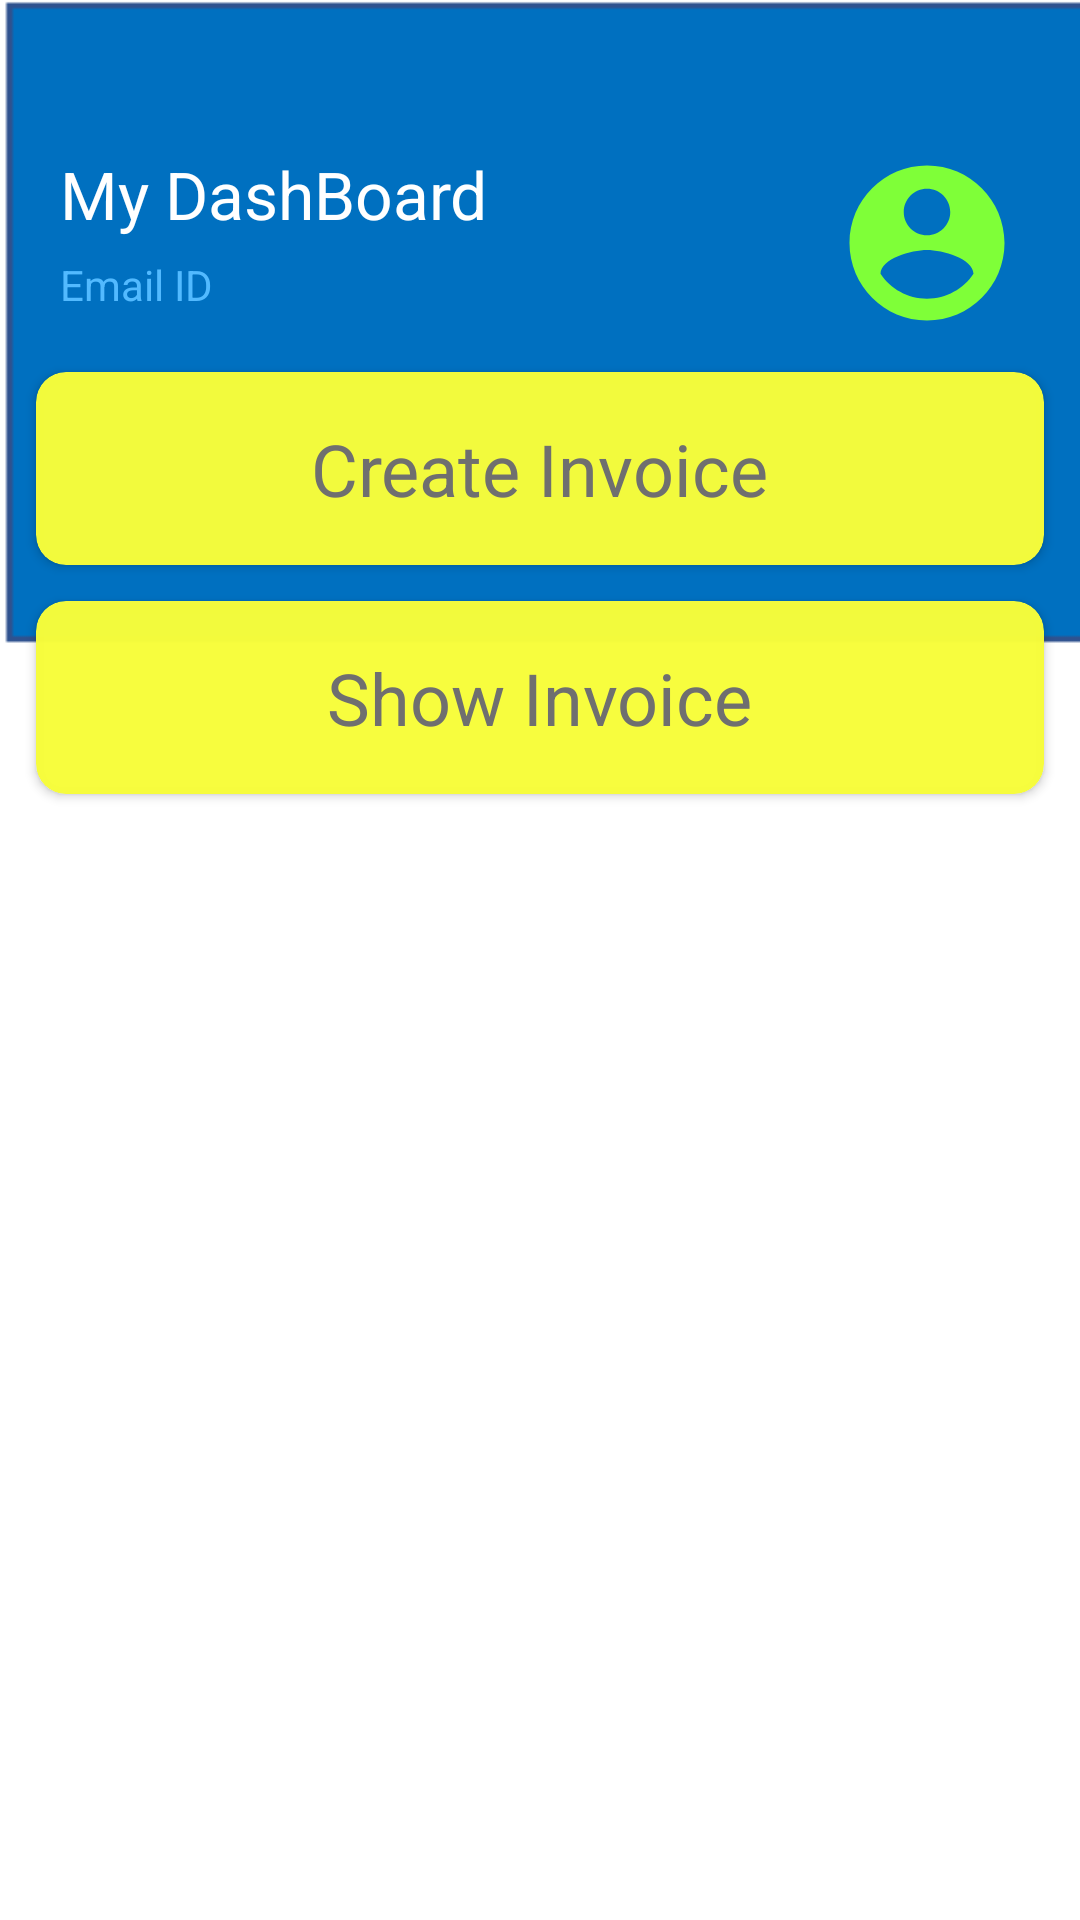

Point at icon controls on the screen. Image size 1080x1920, points as (x,y).
account: (927,243)
